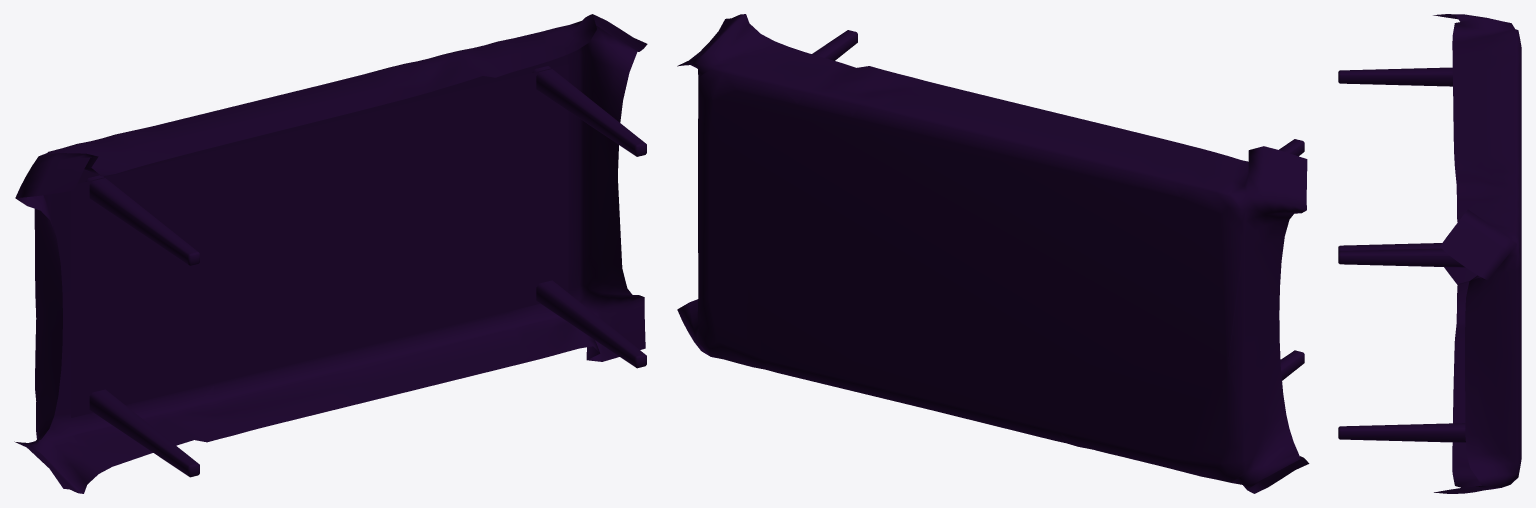
Rendered from SM_Table_01.fbx.
The picture shows the model from 3 angles, left to right: view 1: azimuth 30°, elevation 25°; view 2: azimuth 150°, elevation 25°; view 3: azimuth 270°, elevation 25°; orthographic projection. The views are drawn at different scales.
Parts seen in each view (by area): view 1: SM_Table_01; view 2: SM_Table_01; view 3: SM_Table_01.
Boxes of the visible parts, bbox=[...] form: SM_Table_01: bbox=[14, 14, 647, 493]; SM_Table_01: bbox=[677, 14, 1309, 493]; SM_Table_01: bbox=[1338, 14, 1521, 493].
Size of the model in its own units: 322 by 174 by 97.96.
